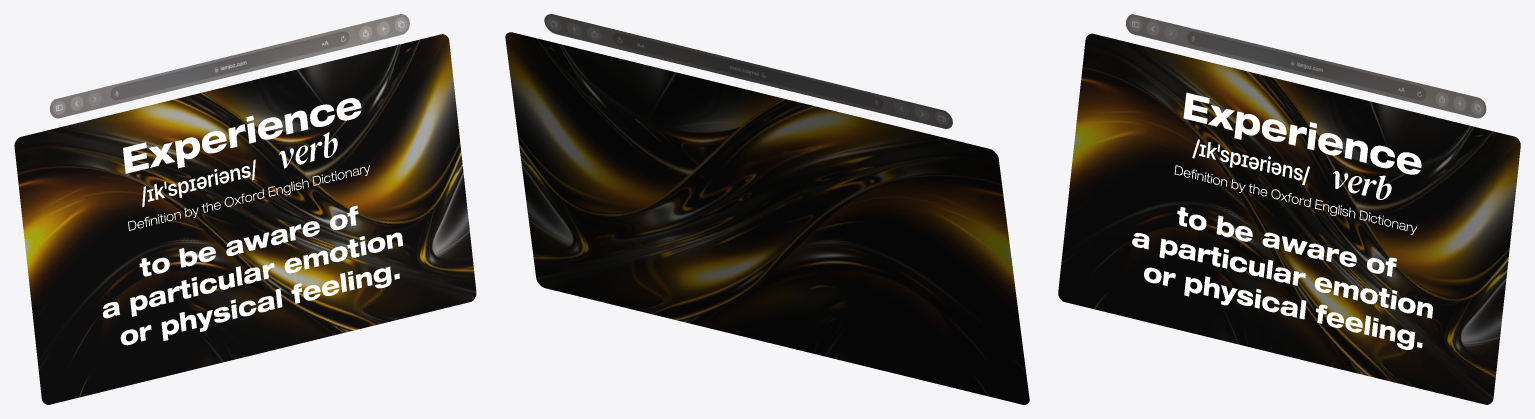
3 views of the same model, side by side, from view 1: azimuth 30°, elevation 25°; view 2: azimuth 150°, elevation 25°; view 3: azimuth 330°, elevation 25° (orthographic). The views are drawn at different scales.
Parts seen in each view (by area): view 1: dd.001, dd, dd.004; view 2: dd.001, dd.004; view 3: dd.001, dd, dd.004.
Boxes of the visible parts, <box> form: dd.001: <box>14,34,476,404</box>; dd: <box>103,98,402,345</box>; dd.004: <box>49,14,409,118</box>; dd.001: <box>505,32,1029,404</box>; dd.004: <box>544,14,952,128</box>; dd.001: <box>1058,33,1520,404</box>; dd: <box>1132,92,1432,349</box>; dd.004: <box>1126,14,1486,118</box>.
Bounding box in the file's own units: 3.99 × 2.4 × 0.5041.
Materials: 3 (2 with a texture image).
